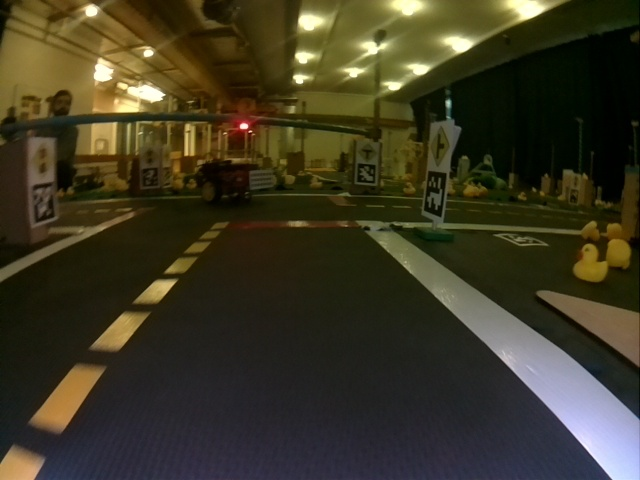Duckie: (574, 244, 607, 280), (607, 242, 630, 269), (581, 221, 600, 239), (403, 182, 416, 195), (310, 177, 322, 189), (463, 186, 475, 197), (478, 185, 488, 196), (518, 192, 528, 201)
Duckiebot: (197, 160, 274, 203)
Intersection sign: (430, 124, 450, 168), (359, 142, 377, 161)
QR code: (32, 184, 57, 224), (425, 172, 446, 216), (497, 234, 543, 246), (140, 166, 159, 188), (357, 165, 376, 186)
Traffic light: (238, 121, 250, 131)
